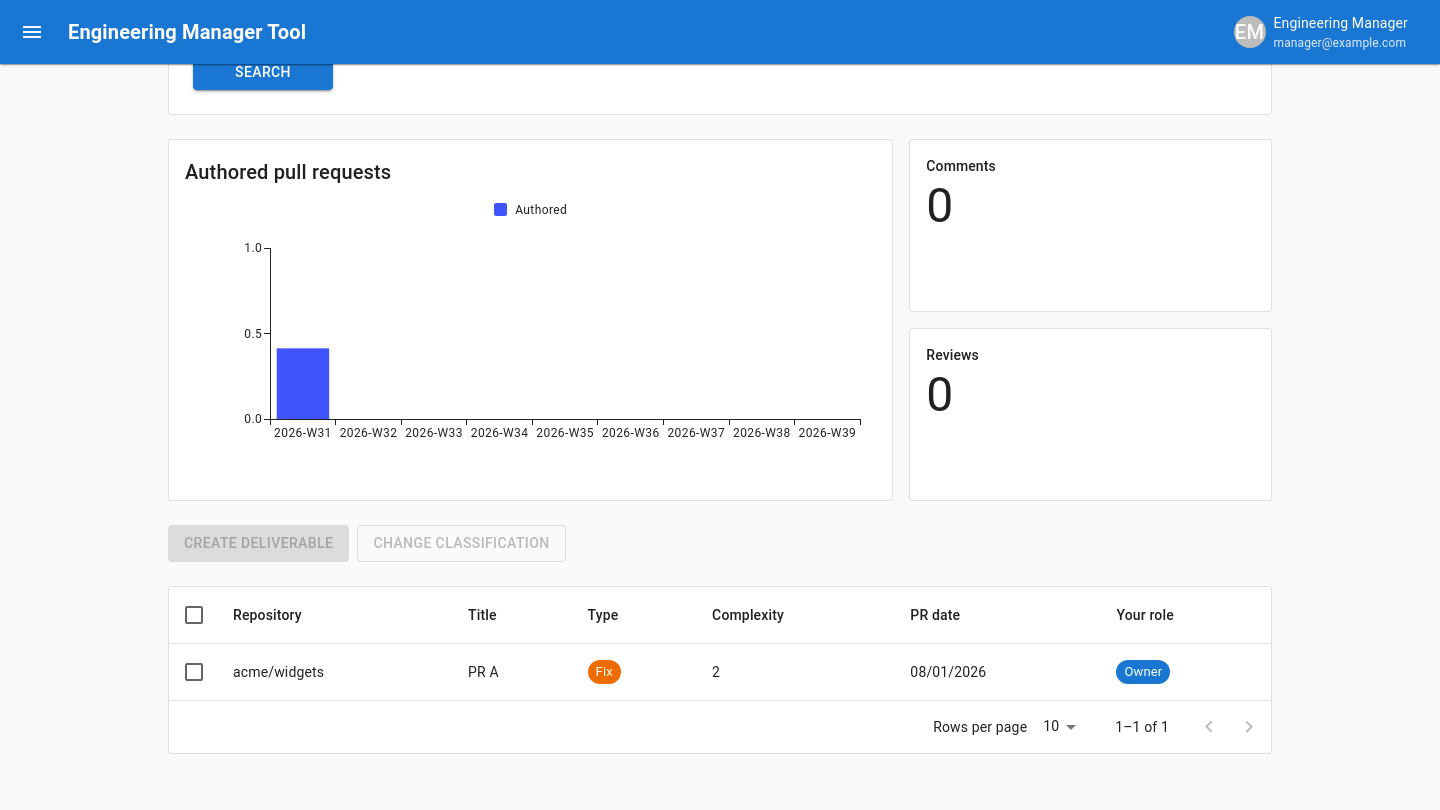
it: 021 create deliverable review › shows error when analyze is forbidden
(page scrolled)
Expected: the text "PR A" is shown, [452,643,572,700]
Click the checkbox named "Select pull request": click(194, 672) [182,660,206,684]
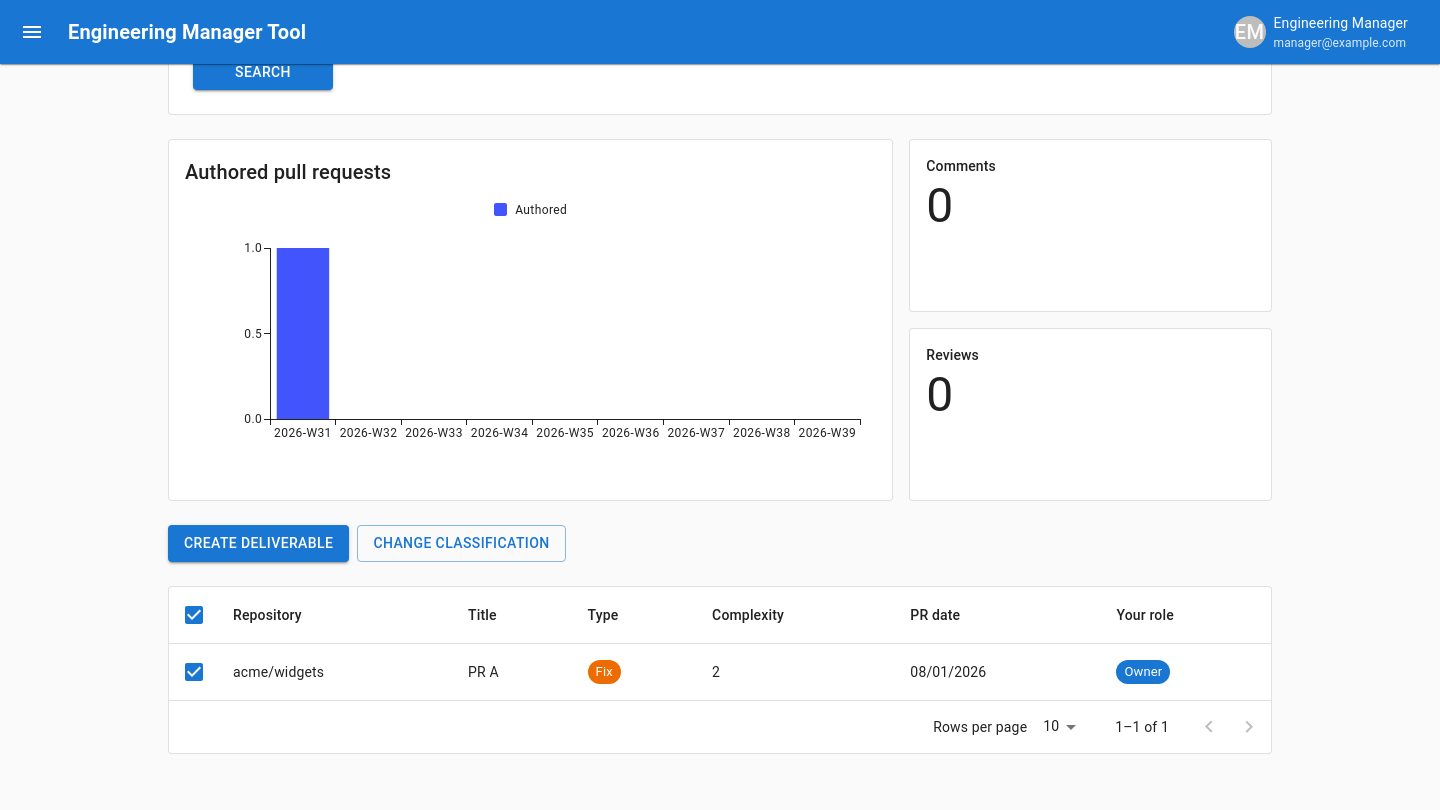
Click the button with test id "create-deliverable-button": click(259, 544) [168,525,349,562]
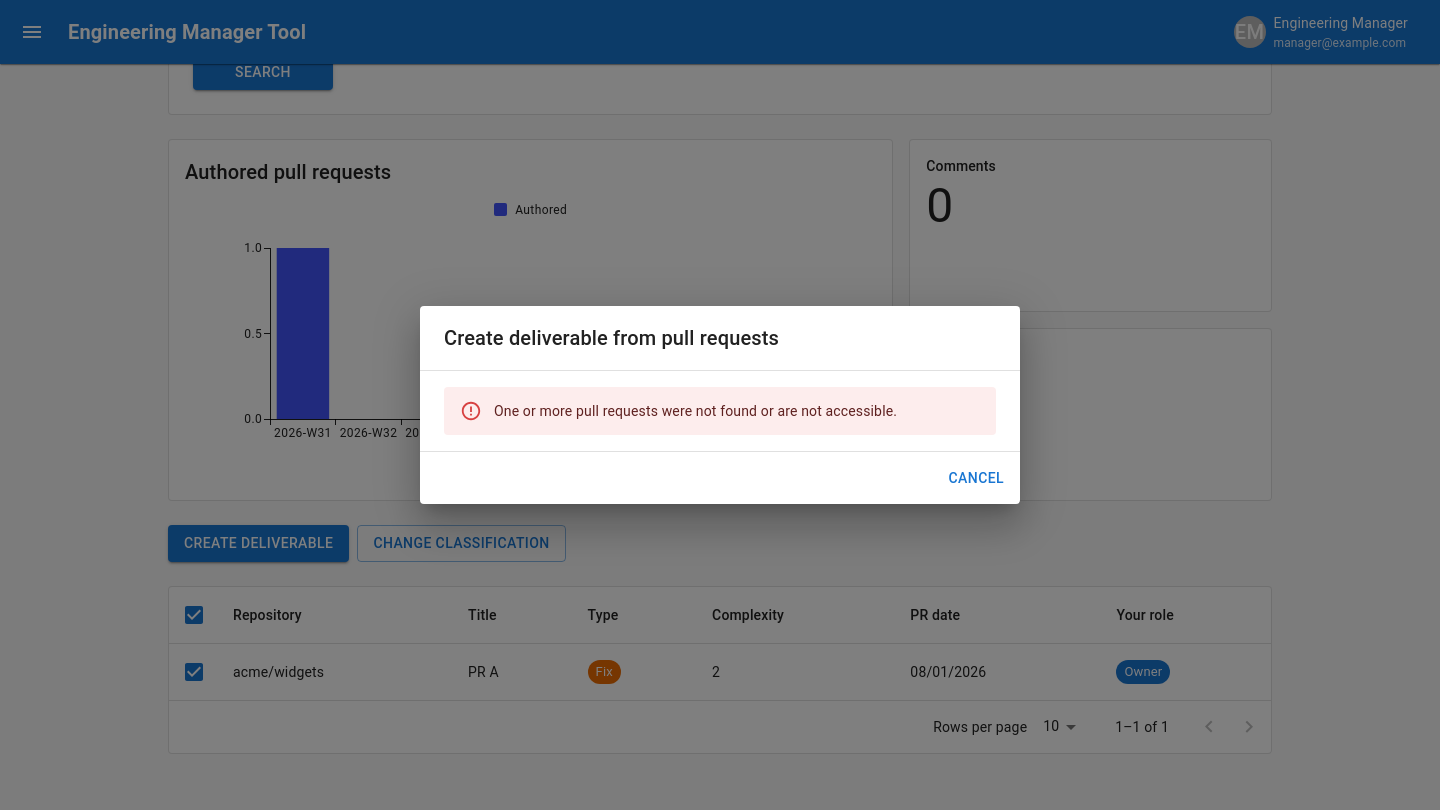
Result: the message "One or more pull requests were not found or are not accessible." is shown at [444,387,996,435]
